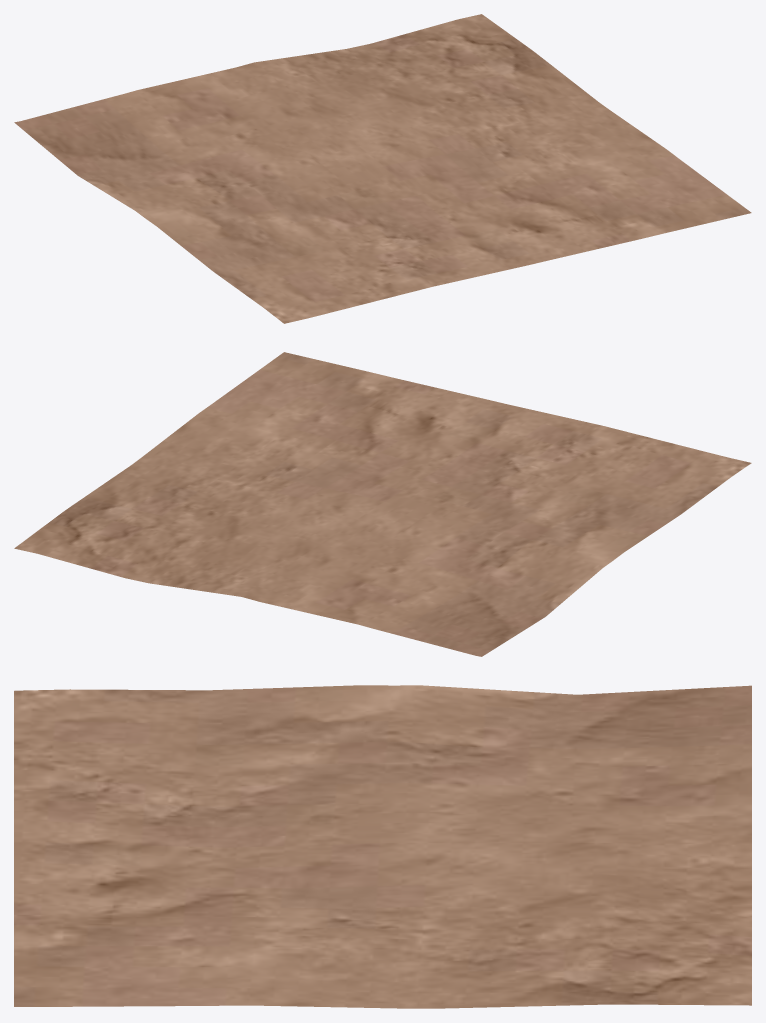
3 views of the same model, one above another, from view 1: azimuth 30°, elevation 25°; view 2: azimuth 150°, elevation 25°; view 3: azimuth 270°, elevation 25° (orthographic). The views are drawn at different scales.
Size of the model in its own units: 256 by 5.48 by 256.
Materials: 1 (1 with a texture image).
